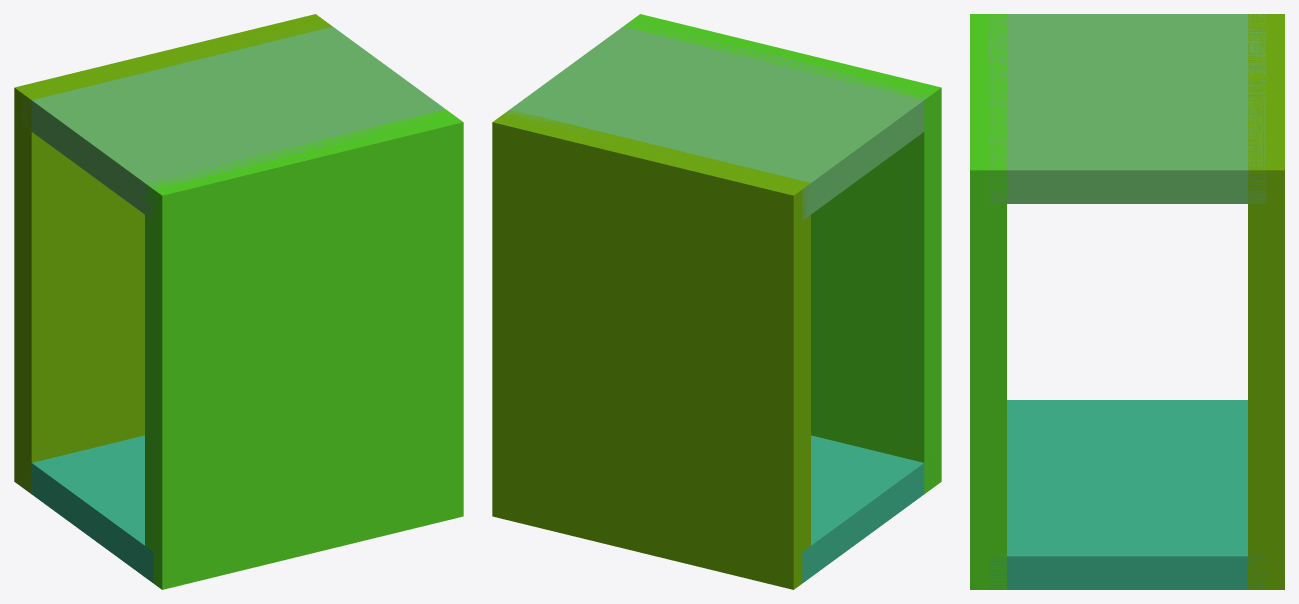
The model's file is wall_2_disjoint.obj.
3 renders of one model, left to right at view 1: azimuth 30°, elevation 25°; view 2: azimuth 150°, elevation 25°; view 3: azimuth 270°, elevation 25°, orthographic. The views are drawn at different scales.
Parts seen in each view (by area): view 1: cube_2, cube_1, cube_3, cube_4; view 2: cube_1, cube_2, cube_3, cube_4; view 3: cube_3, cube_4, cube_1, cube_2.
Part boxes in pixels (x1,y1,x2,y2): cube_2: (145, 109, 463, 589); cube_1: (14, 14, 332, 493); cube_3: (23, 21, 445, 220); cube_4: (23, 435, 153, 583); cube_1: (492, 110, 810, 589); cube_2: (623, 14, 941, 493); cube_3: (504, 21, 929, 220); cube_4: (802, 435, 932, 583); cube_3: (988, 14, 1266, 203); cube_4: (989, 400, 1266, 589); cube_1: (1248, 14, 1284, 589); cube_2: (970, 14, 1006, 589).
Size of the model in its own units: 0.4 by 0.5 by 0.34.
